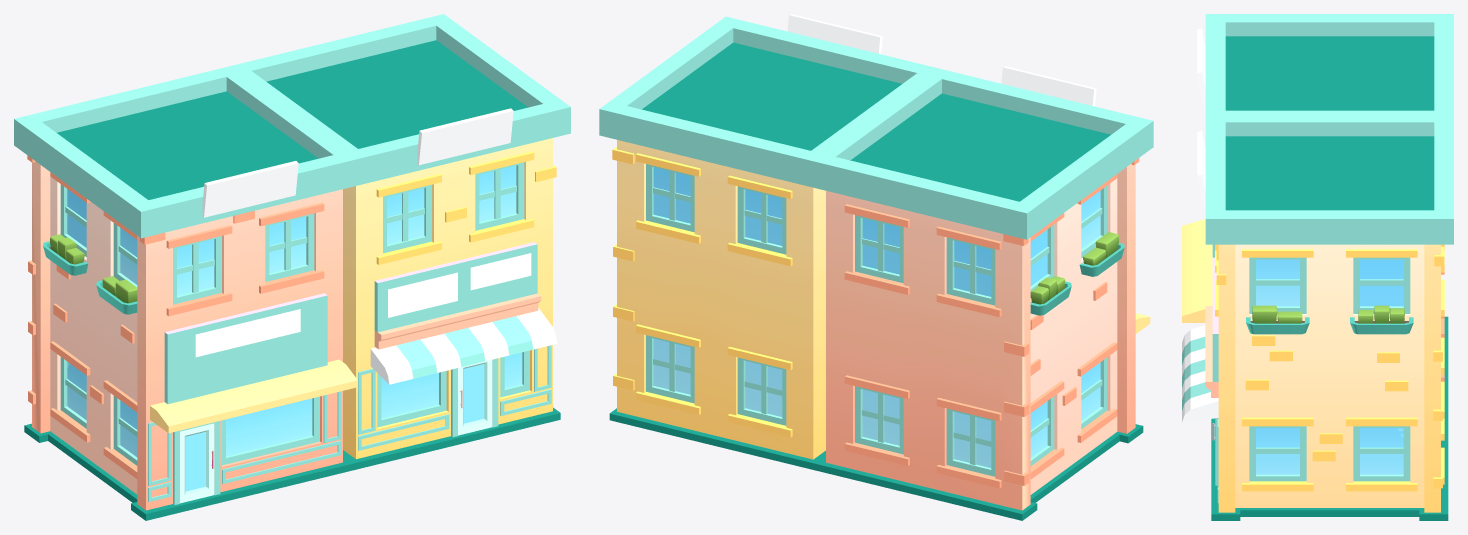
File: city2-building-living-25.glb
3 views of the same model, side by side, from view 1: azimuth 30°, elevation 25°; view 2: azimuth 150°, elevation 25°; view 3: azimuth 270°, elevation 25° (orthographic). The views are drawn at different scales.
Visible parts, largest first — view 1: Building_Living_25; view 2: Building_Living_25; view 3: Building_Living_25.
Boxes of the visible parts, x1,y1,x2,y2 form: Building_Living_25: [14, 14, 570, 520]; Building_Living_25: [599, 14, 1153, 520]; Building_Living_25: [1182, 14, 1453, 520].
Size of the model in its own units: 13.39 by 9.77 by 7.52.
Materials: 1 (1 with a texture image).
